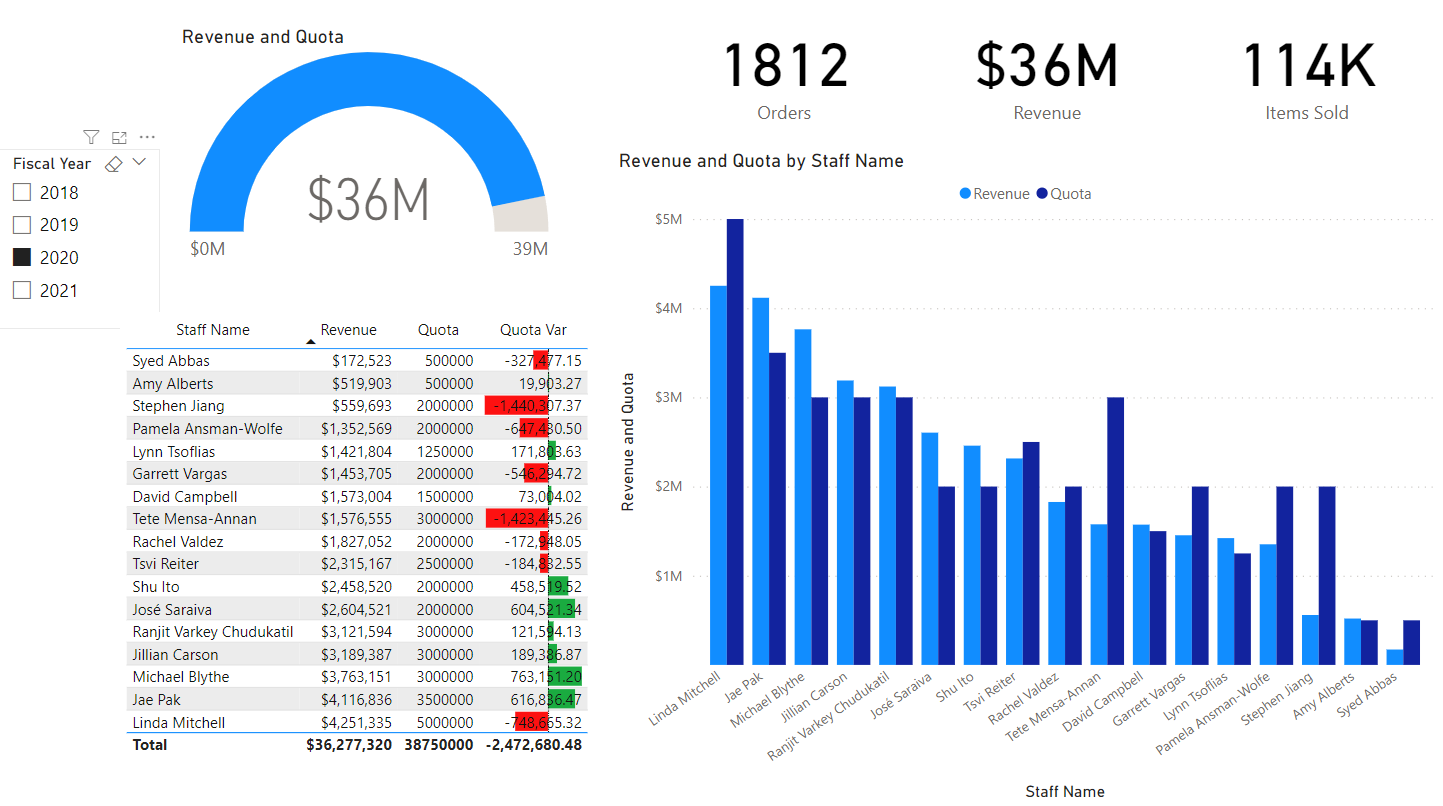

This screenshot's page, from the dashboard's own definition file:
{"tool":"powerbi","page":{"name":"Quotas","canvas":[1280,720],"ordinal":2},"visuals":[{"type":"card","fields":{"Values":["Order_Items.Orders"]},"box":[594.6,16.3,203.6,102.4],"z":0},{"type":"card","fields":{"Values":["Order_Items.Revenue"]},"box":[827.3,16.3,203.6,102.4],"z":1000},{"type":"card","fields":{"Values":["Order_Items.Items Sold"]},"box":[1057.7,16.3,203.6,102.4],"z":2000},{"type":"slicer","fields":{"Values":["Calendar.Fiscal Year"]},"box":[0,137.8,143.6,160],"z":3000},{"type":"gauge","fields":{"Y":["Order_Items.Revenue"],"MaxValue":["Quotas.Quota"]},"box":[157.6,28.3,341.8,218.7],"z":4000},{"type":"tableEx","fields":{"Values":["Staff.Staff Name","Order_Items.Revenue","Quotas.Quota","Quotas.Quota Var"]},"box":[108,282.5,426,421.5],"z":5000},{"type":"clusteredColumnChart","fields":{"Category":["Staff.Staff Name"],"Y":["Order_Items.Revenue","Quotas.Quota"]},"box":[544.6,138.2,735.1,581.8],"z":6000}]}

Visuals, with their boxes in screenshot pixels (x1, y1, x2, y2), scaled from the page's 1280x720 canvas onto the 1443x806 screenshot:
card - Order_Items.Orders: x1=670, y1=18, x2=900, y2=133
card - Order_Items.Revenue: x1=933, y1=18, x2=1162, y2=133
card - Order_Items.Items Sold: x1=1192, y1=18, x2=1422, y2=133
slicer - Calendar.Fiscal Year: x1=0, y1=154, x2=162, y2=333
gauge - Order_Items.Revenue x Quotas.Quota: x1=178, y1=32, x2=563, y2=277
tableEx - Staff.Staff Name x Order_Items.Revenue: x1=122, y1=316, x2=602, y2=788
clusteredColumnChart - Staff.Staff Name x Order_Items.Revenue: x1=614, y1=155, x2=1442, y2=805
